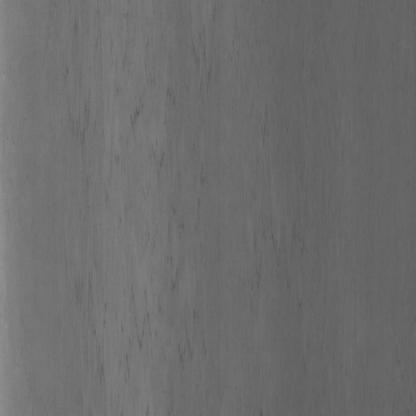silk_spot: (77, 32, 220, 388)
